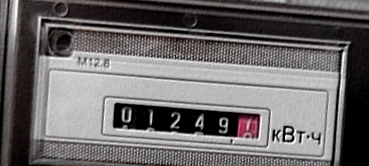0: (119, 104, 135, 126)
1: (144, 107, 156, 127)
2: (168, 110, 183, 131)
4: (193, 112, 206, 132)
7: (241, 113, 255, 133)
9: (215, 115, 231, 137)
screen: (92, 88, 271, 154)
